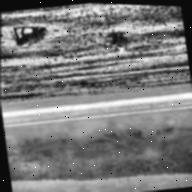boar: (95, 28, 137, 70), (13, 18, 57, 54)
